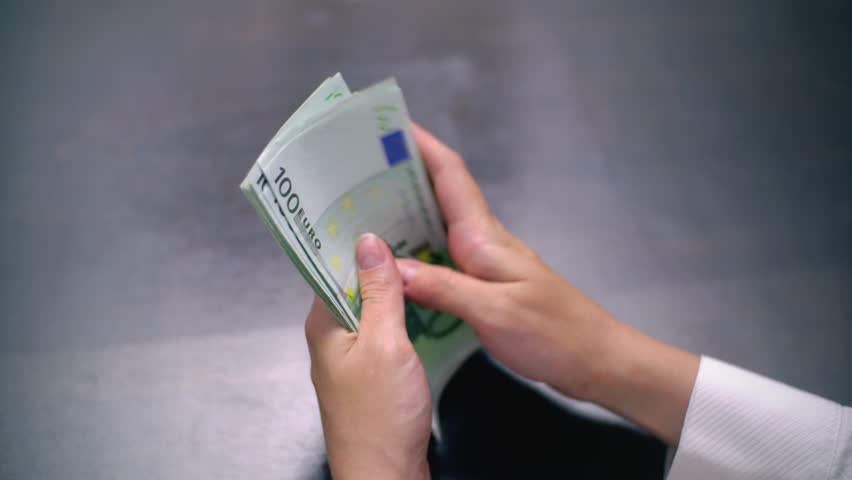billete: (237, 69, 489, 445)
